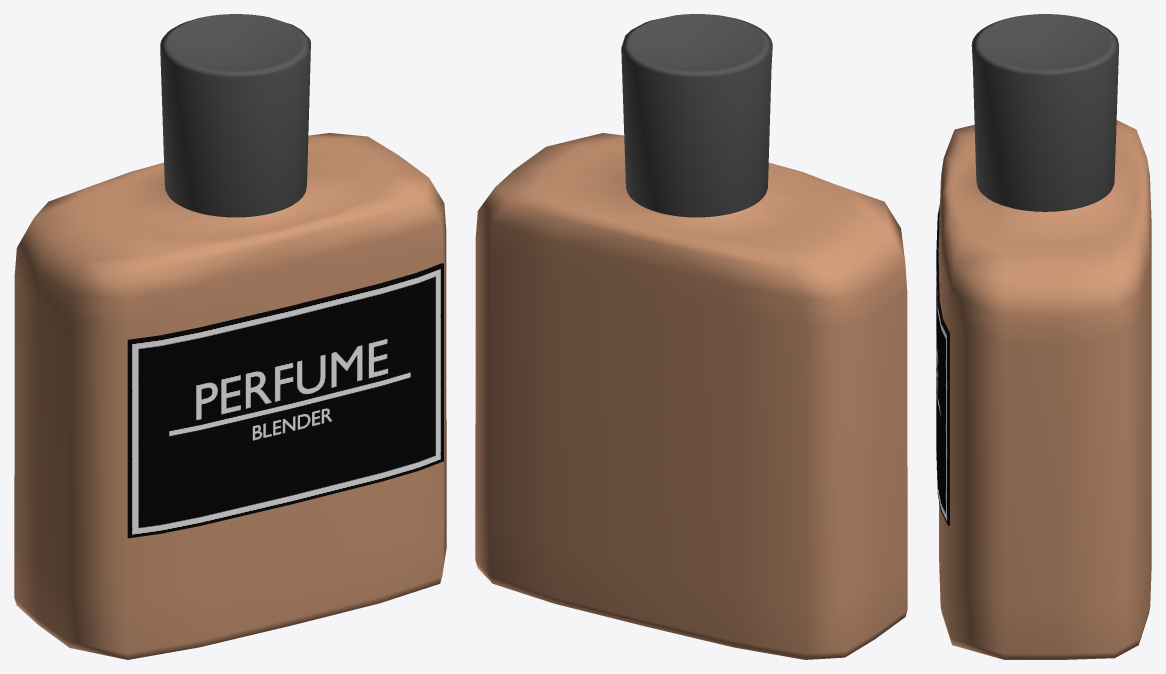
The model's file is cent.fbx.
3 renders of one model, left to right at view 1: azimuth 30°, elevation 25°; view 2: azimuth 150°, elevation 25°; view 3: azimuth 270°, elevation 25°, orthographic. The views are drawn at different scales.
Parts seen in each view (by area): view 1: bottle.002, bottle.001; view 2: bottle.002; view 3: bottle.002, bottle.001.
Part boxes in pixels (left/top/right/bottom): bottle.002: left=14, top=14, right=446, bottom=659; bottle.001: left=127, top=263, right=443, bottom=538; bottle.002: left=475, top=14, right=907, bottom=659; bottle.002: left=939, top=14, right=1151, bottom=659; bottle.001: left=936, top=204, right=949, bottom=525.
Bounding box in the file's own units: 38.14 × 52.4 × 19.33.
Materials: 3 (1 with a texture image).
